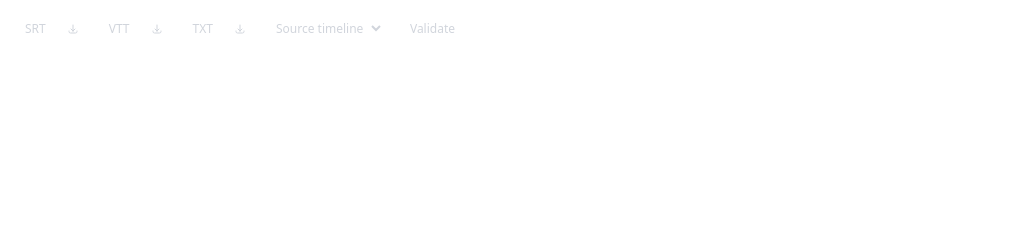
Test: SubtitleExport › should show validation panel when validate button is clicked
What coordinates should you click on to do the following:
click the button "Validate"
I would click on:
 (432, 28)
Its box is [397, 14, 468, 44].
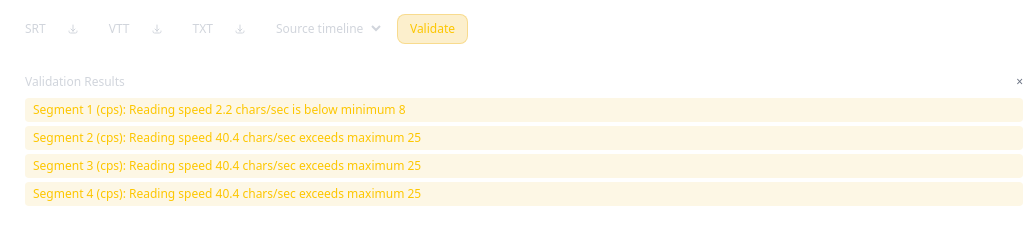
Result: the element with class "mt-2" is shown
Result: the text "Validation Results" is shown at [25, 74, 125, 90]
